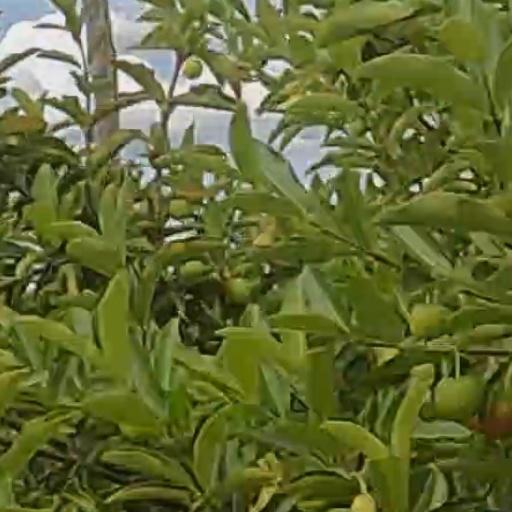acerola_verde: (437, 377, 481, 420)
acerola_vermelha: (476, 402, 512, 434)
